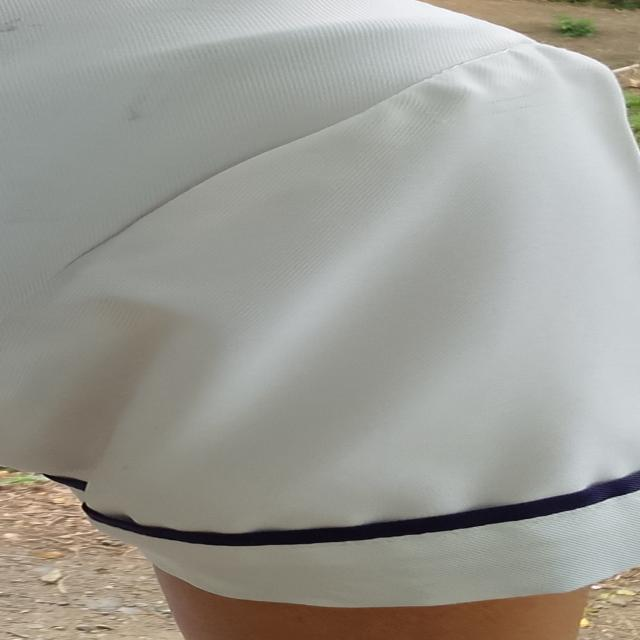education_female_uniform: (0, 4, 640, 614)
